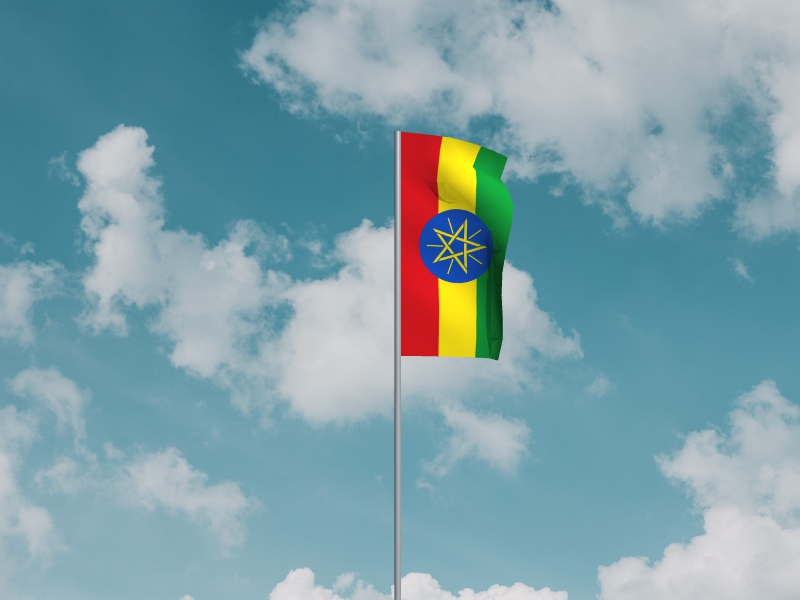et: (402, 132, 516, 362)
